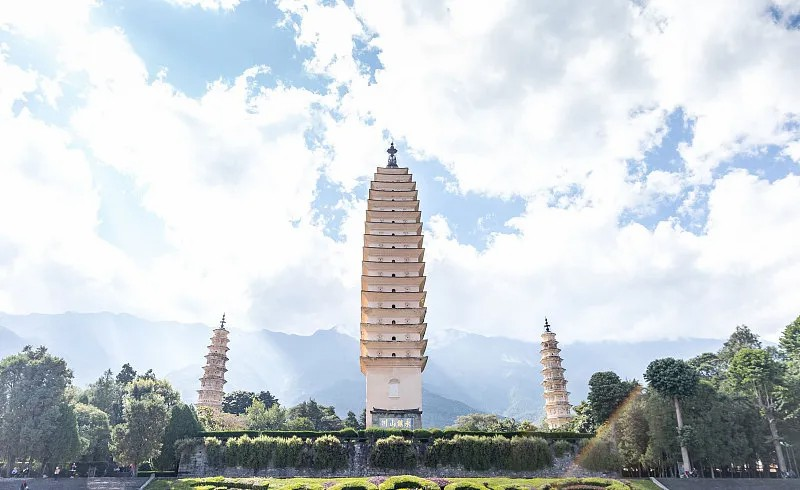ThreePagoda: (360, 141, 428, 429)
